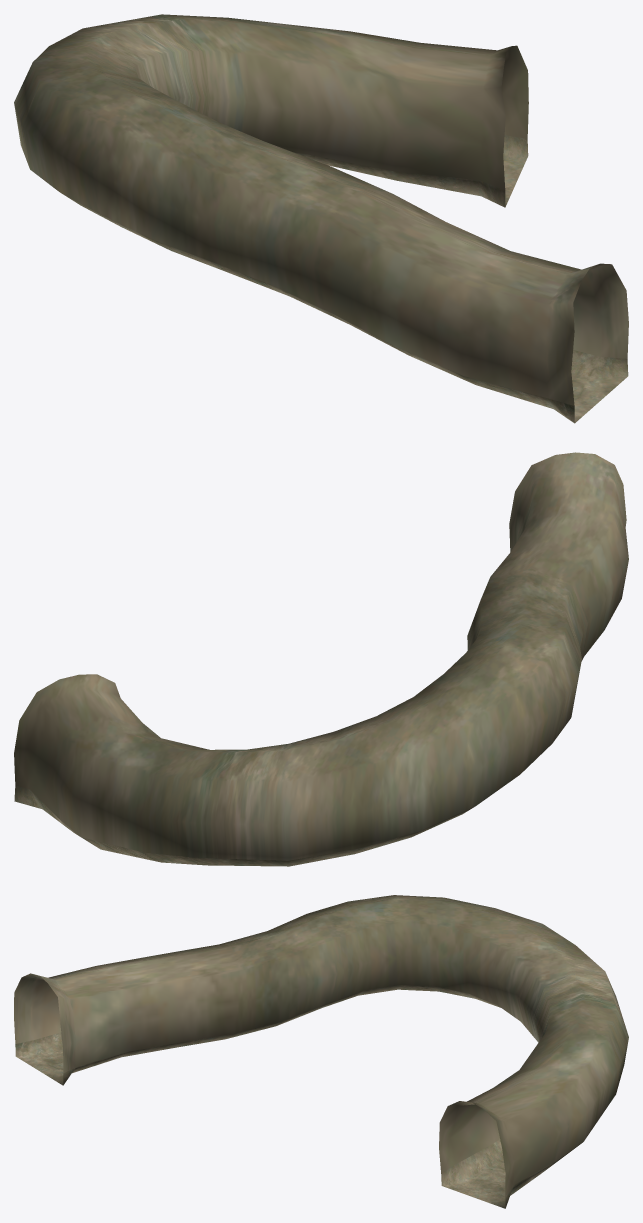
The model's file is EKH_CAVERNS_PS_CA_CAVE_01.fbx.
3 renders of one model, top to bottom at view 1: azimuth 30°, elevation 25°; view 2: azimuth 150°, elevation 25°; view 3: azimuth 270°, elevation 25°, orthographic. The views are drawn at different scales.
Visible parts, largest first — view 1: EKH_CAVERNS_PS_CA_CAVE_01; view 2: EKH_CAVERNS_PS_CA_CAVE_01; view 3: EKH_CAVERNS_PS_CA_CAVE_01.
Boxes of the visible parts, <box> form: EKH_CAVERNS_PS_CA_CAVE_01: <box>14,14,628,423</box>; EKH_CAVERNS_PS_CA_CAVE_01: <box>14,452,628,866</box>; EKH_CAVERNS_PS_CA_CAVE_01: <box>14,895,628,1208</box>.
Bounding box in the file's own units: 151810 × 63298 × 227126.
Materials: 1 (1 with a texture image).
